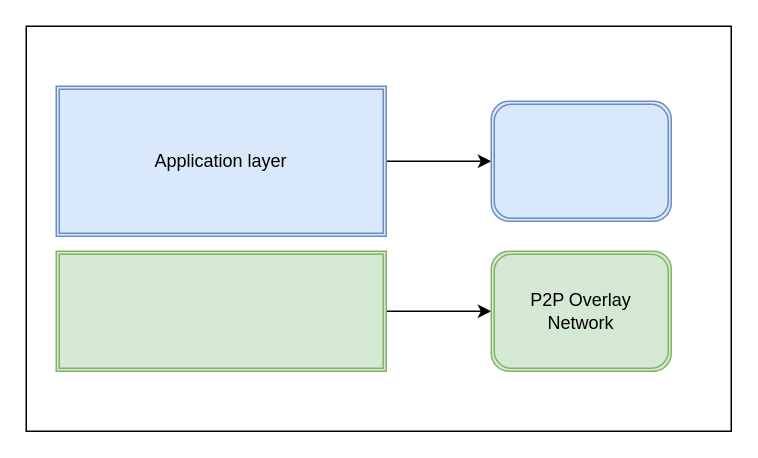
Some shapes in this 758 by 458 pixel diagram are drawn without their labels. The shapes that lost their labels are listed below. From the top down, each one's centre as x and y in pixels, then its label:
At pixel 580 160: "BitCoin Block chain".
At pixel 220 310: "Network layer".
